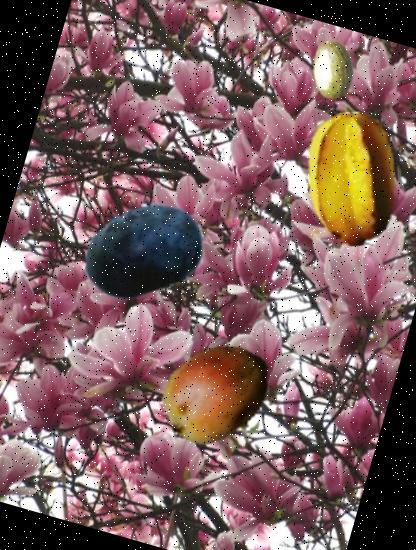Blueberry: (66, 172, 218, 325)
Carambula: (268, 96, 416, 263)
Melon: (296, 32, 370, 106)
Papaya: (144, 320, 289, 465)
